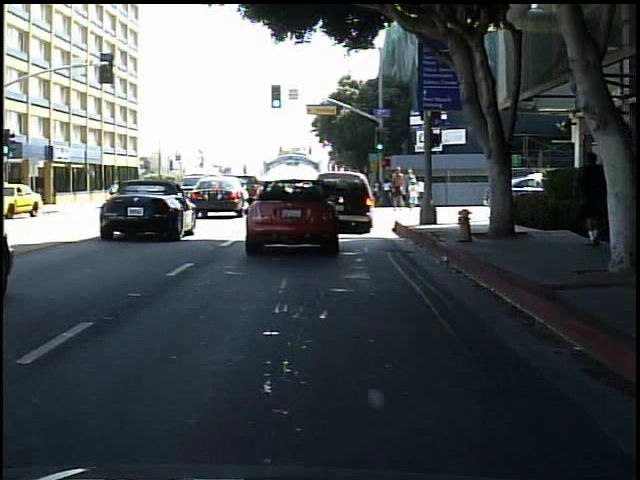person: (570, 151, 608, 247), (388, 165, 408, 213), (406, 176, 424, 210), (104, 178, 122, 205)
